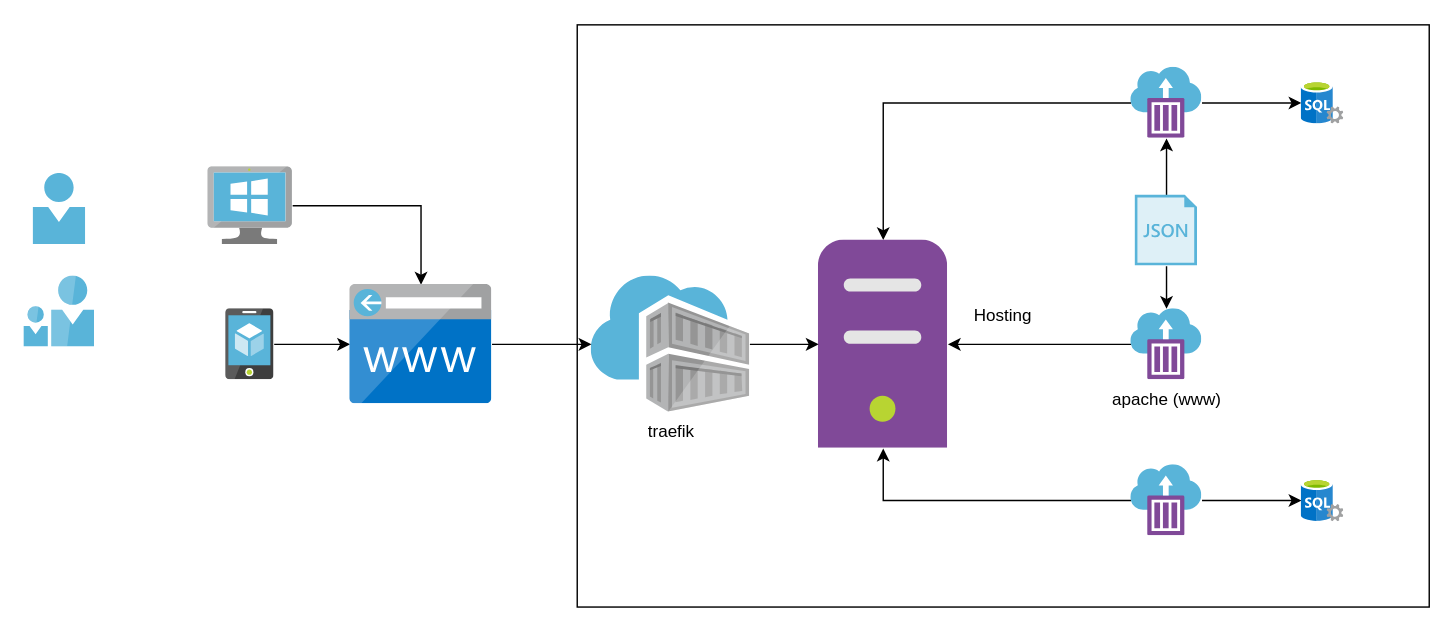
This 1454x643 diagram has some shape labels left out. The shapes that lost their labels are listed below. From the top down, each one's centre as x and y in pixels, then its label:
At (1165,102): "directus (cms)".
At (1165,499): "nextcloud (cloud)".
